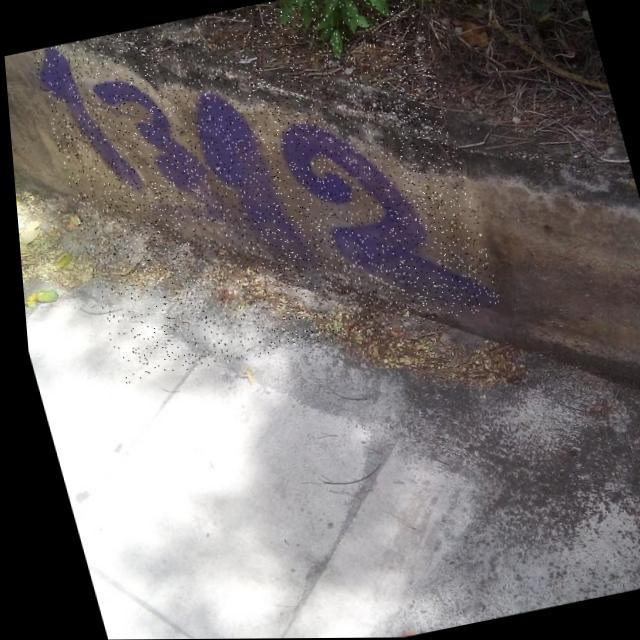-: (26, 0, 502, 386)
